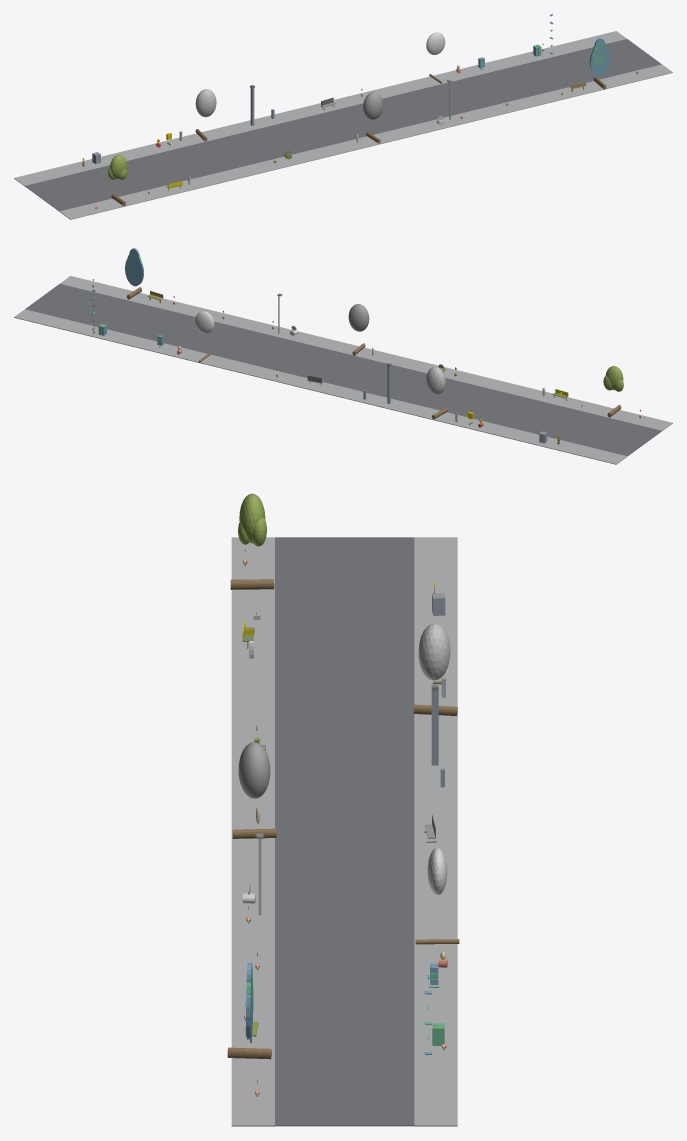
3 renders of one model, top to bottom at view 1: azimuth 30°, elevation 25°; view 2: azimuth 150°, elevation 25°; view 3: azimuth 270°, elevation 25°, orthographic. The views are drawn at different scales.
Parts seen in each view (by area): view 1: road_slab, sidewalk_left, sidewalk_right, inst_0016, inst_0013, inst_0014, inst_0012, inst_0015; view 2: road_slab, sidewalk_right, sidewalk_left, inst_0016, inst_0014, inst_0013, inst_0012, inst_0015; view 3: road_slab, sidewalk_left, sidewalk_right, inst_0014, inst_0013, inst_0012, inst_0016, inst_0015.
Part boxes in pixels (x1,y1,x2,y2): road_slab: (25, 39, 661, 211); sidewalk_left: (59, 64, 672, 219); sidewalk_right: (14, 31, 626, 186); inst_0016: (589, 38, 610, 89); inst_0013: (195, 89, 216, 141); inst_0014: (363, 92, 383, 143); inst_0012: (108, 155, 127, 206); inst_0015: (426, 32, 445, 83); road_slab: (25, 284, 661, 456); sidewalk_right: (14, 309, 627, 464); sidewalk_left: (60, 276, 672, 430); inst_0016: (125, 248, 143, 299); inst_0014: (348, 304, 369, 355); inst_0013: (426, 366, 447, 419); inst_0012: (603, 366, 623, 417); inst_0015: (195, 311, 214, 362); road_slab: (275, 537, 414, 1126); sidewalk_left: (231, 537, 274, 1126); sidewalk_right: (414, 537, 457, 1126); inst_0014: (232, 742, 276, 838); inst_0013: (413, 623, 457, 716); inst_0012: (230, 493, 274, 589); inst_0016: (227, 963, 271, 1059); inst_0015: (415, 847, 459, 944).
Bounding box in the file's own units: 80 × 6.08 × 13.31.
